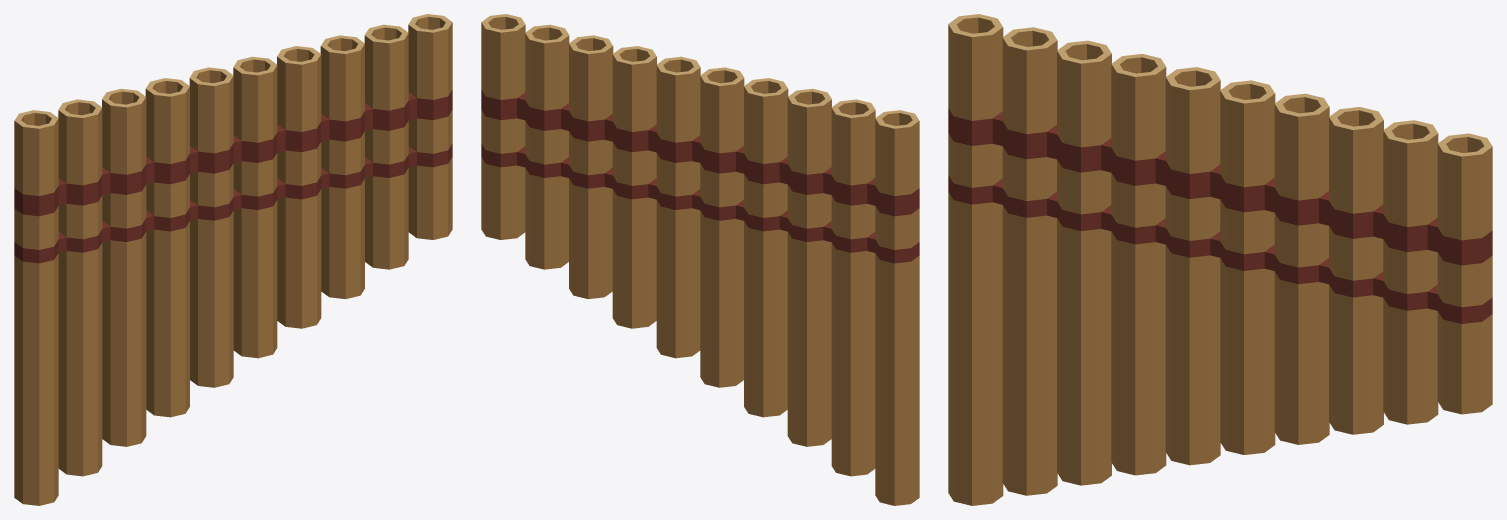
File: NEW_RECOVERY_063_LOD2.glb
3 views of the same model, side by side, from view 1: azimuth 30°, elevation 25°; view 2: azimuth 150°, elevation 25°; view 3: azimuth 330°, elevation 25° (orthographic). The views are drawn at different scales.
Parts seen in each view (by area): view 1: Pan_flute; view 2: Pan_flute; view 3: Pan_flute.
Part boxes in pixels (x1,y1,x2,y2): Pan_flute: (14,14,452,505); Pan_flute: (481,14,919,505); Pan_flute: (948,14,1492,505).
Bounding box in the file's own units: 3.34 × 2.8 × 0.2772.
